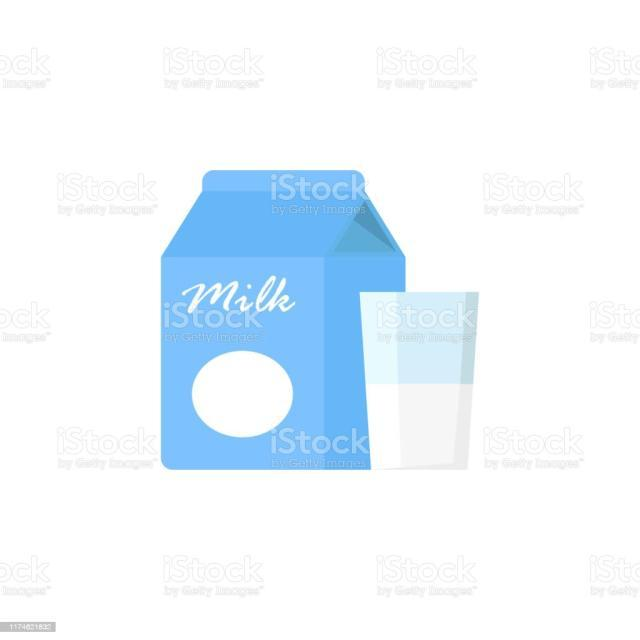Carton: (146, 156, 412, 486)
